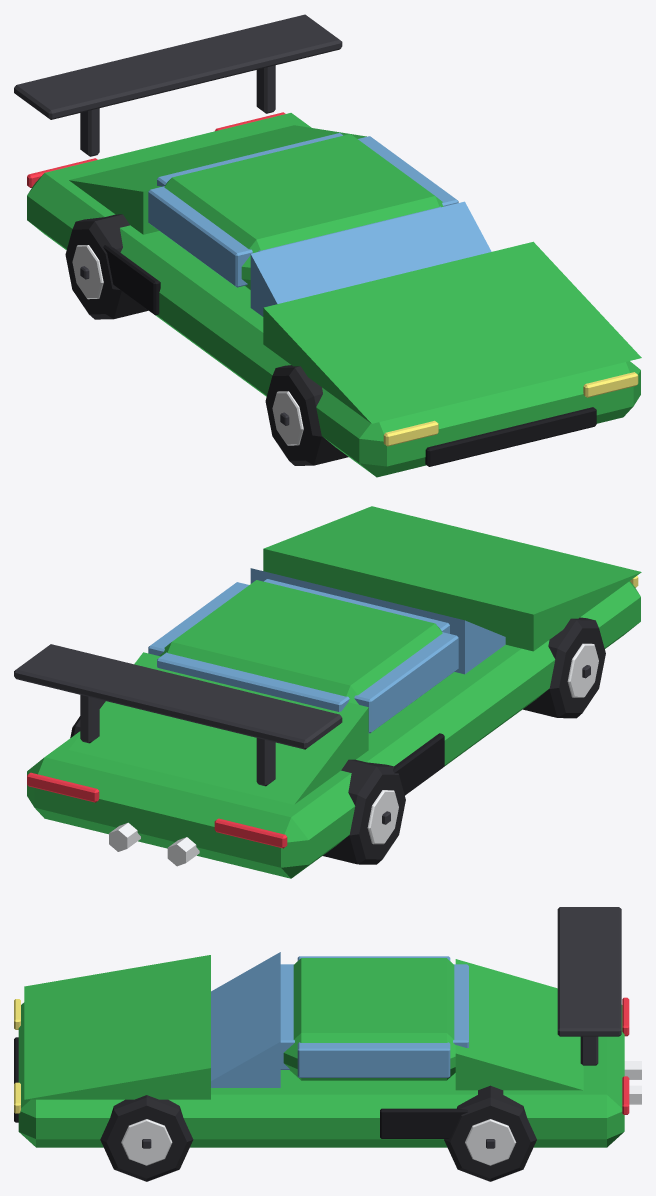
The model's file is GreenSupercar.fbx.
3 views of the same model, one above another, from view 1: azimuth 30°, elevation 25°; view 2: azimuth 150°, elevation 25°; view 3: azimuth 270°, elevation 25° (orthographic). The views are drawn at different scales.
Visible parts, largest first — view 1: GreenSupercar, GreenSupercar_WheelBR, GreenSupercar_WheelFR; view 2: GreenSupercar, GreenSupercar_WheelBR, GreenSupercar_WheelFR; view 3: GreenSupercar, GreenSupercar_WheelBL, GreenSupercar_WheelFL.
Part boxes in pixels (box(x1,y1,x2,y2)): GreenSupercar: box(14, 14, 641, 477); GreenSupercar_WheelBR: box(65, 214, 148, 319); GreenSupercar_WheelFR: box(265, 365, 348, 465); GreenSupercar: box(14, 506, 641, 878); GreenSupercar_WheelBR: box(323, 759, 405, 864); GreenSupercar_WheelFR: box(523, 617, 605, 718); GreenSupercar: box(14, 907, 641, 1147); GreenSupercar_WheelBL: box(444, 1085, 536, 1181); GreenSupercar_WheelFL: box(100, 1095, 193, 1181).
Size of the model in its own units: 5.22 by 2.94 by 10.78.
Materials: 1 (1 with a texture image).
